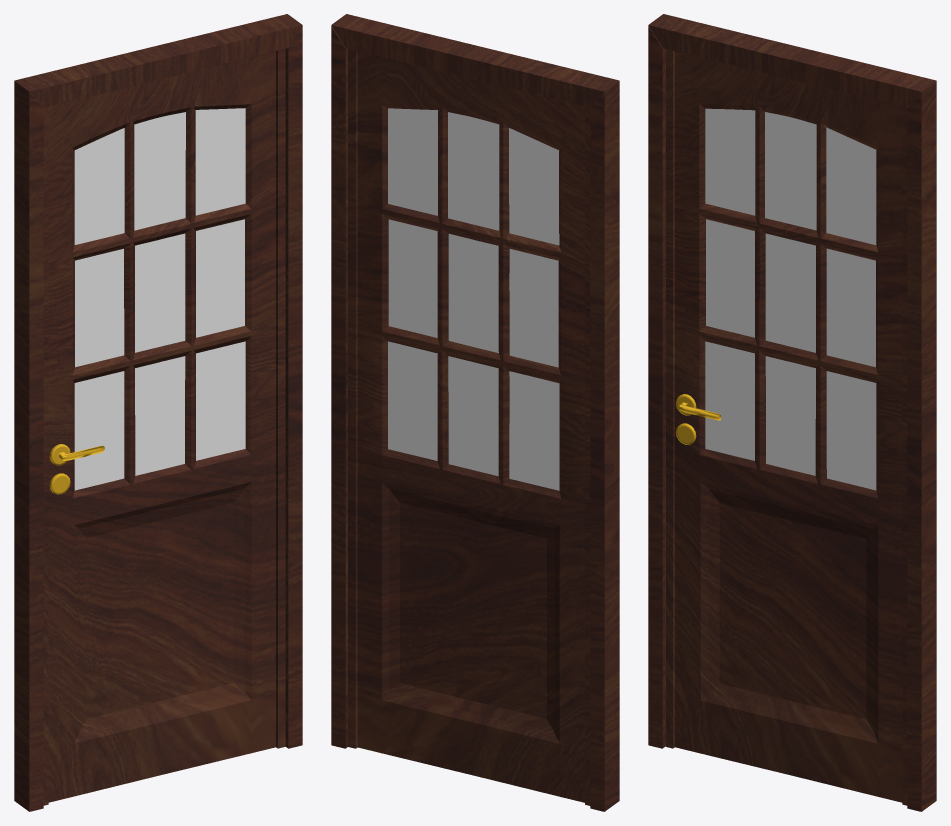
The model's file is PUERTA4_NEW_JERSEY.glb.
3 views of the same model, side by side, from view 1: azimuth 30°, elevation 25°; view 2: azimuth 150°, elevation 25°; view 3: azimuth 330°, elevation 25° (orthographic).
Parts seen in each view (by area): view 1: Puerta4_NEW JERSEY, CRISTAL_GRANDE, Puerta4_Marco, Puerta4_Cerradura; view 2: Puerta4_NEW JERSEY, CRISTAL_GRANDE, Puerta4_Marco; view 3: Puerta4_NEW JERSEY, CRISTAL_GRANDE, Puerta4_Marco, Puerta4_Cerradura.
Part boxes in pixels (x1,y1,x2,y2): Puerta4_NEW JERSEY: (43, 49, 285, 805); CRISTAL_GRANDE: (74, 108, 245, 490); Puerta4_Marco: (14, 14, 302, 811); Puerta4_Cerradura: (49, 444, 104, 494); Puerta4_NEW JERSEY: (348, 49, 590, 805); CRISTAL_GRANDE: (388, 108, 559, 490); Puerta4_Marco: (331, 14, 619, 811); Puerta4_NEW JERSEY: (666, 49, 907, 805); CRISTAL_GRANDE: (705, 108, 876, 490); Puerta4_Marco: (648, 14, 936, 811); Puerta4_Cerradura: (675, 394, 721, 444).
Bounding box in the file's own units: 769 × 1936 × 85.
5 materials, 3 textured.
